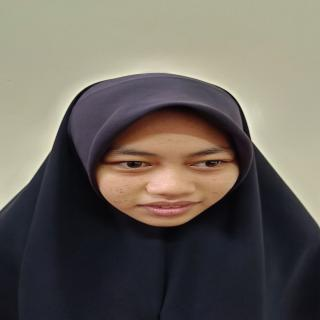Takut: (82, 109, 256, 233)
